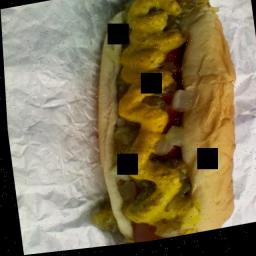hotdog: (136, 0, 186, 168), (157, 0, 192, 79), (124, 220, 165, 246)
